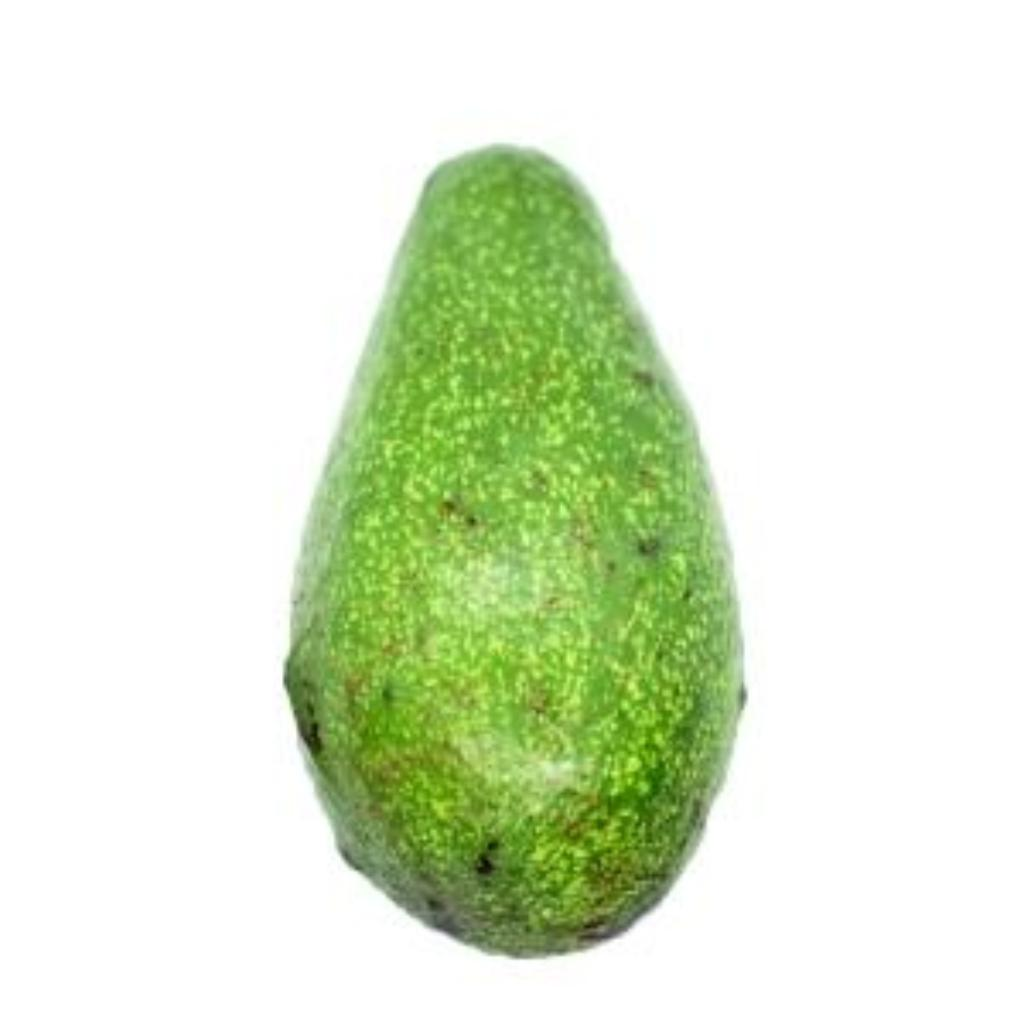cercospora: (263, 128, 768, 957)
